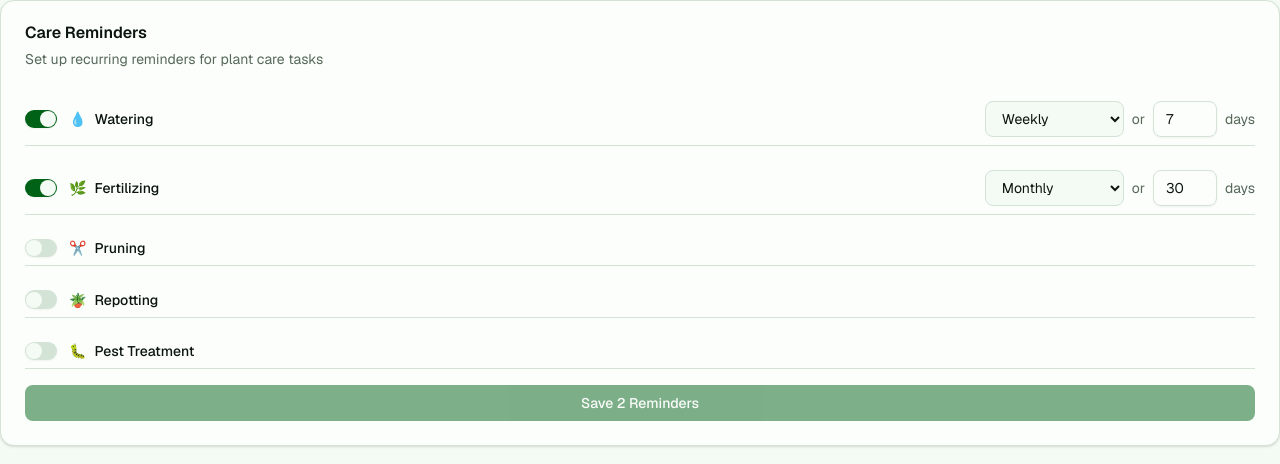
Test case: CareScheduleForm › should show correct button label with enabled count
The width and height of the screenshot is (1280, 464).
Expected: the button "Save 2 Reminders" is shown, [25,385,1255,421]
Note: Toggle watering off
Click the switch named "watering" next to "Watering" at (41, 119), box [25,110,57,128]
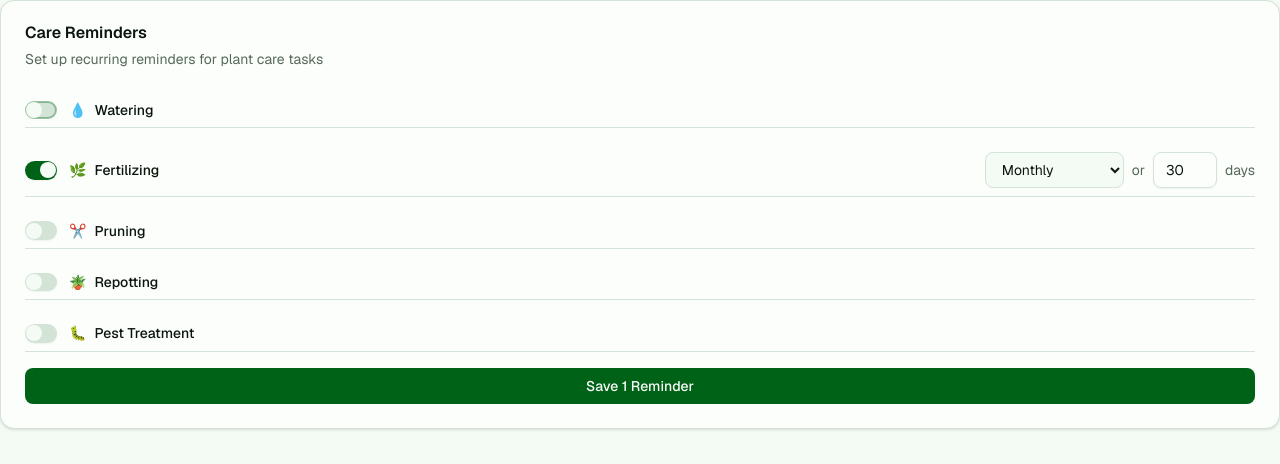
Now the button "Save 1 Reminder" is shown, box [25,368,1255,404]
